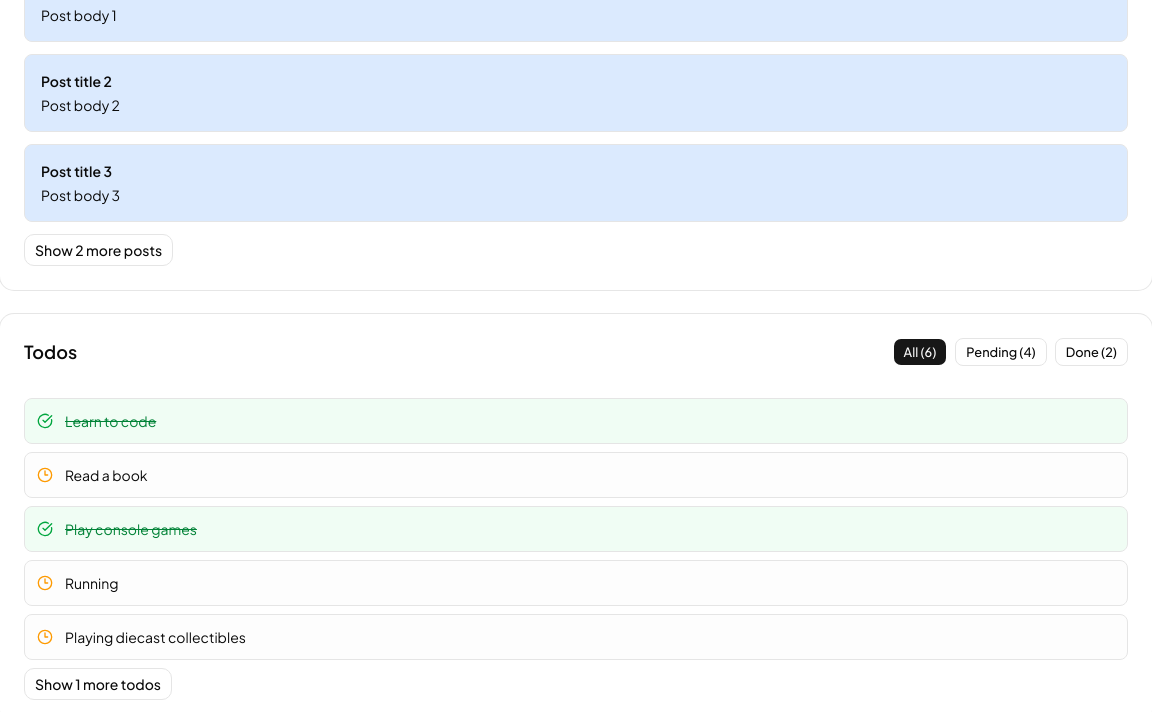
User Detail › todos section › filters todos by done
This screenshot has width=1152, height=712.
(page scrolled)
Click the button "Done (2)" at (1091, 352), box [1055, 338, 1128, 366]
(page scrolled)
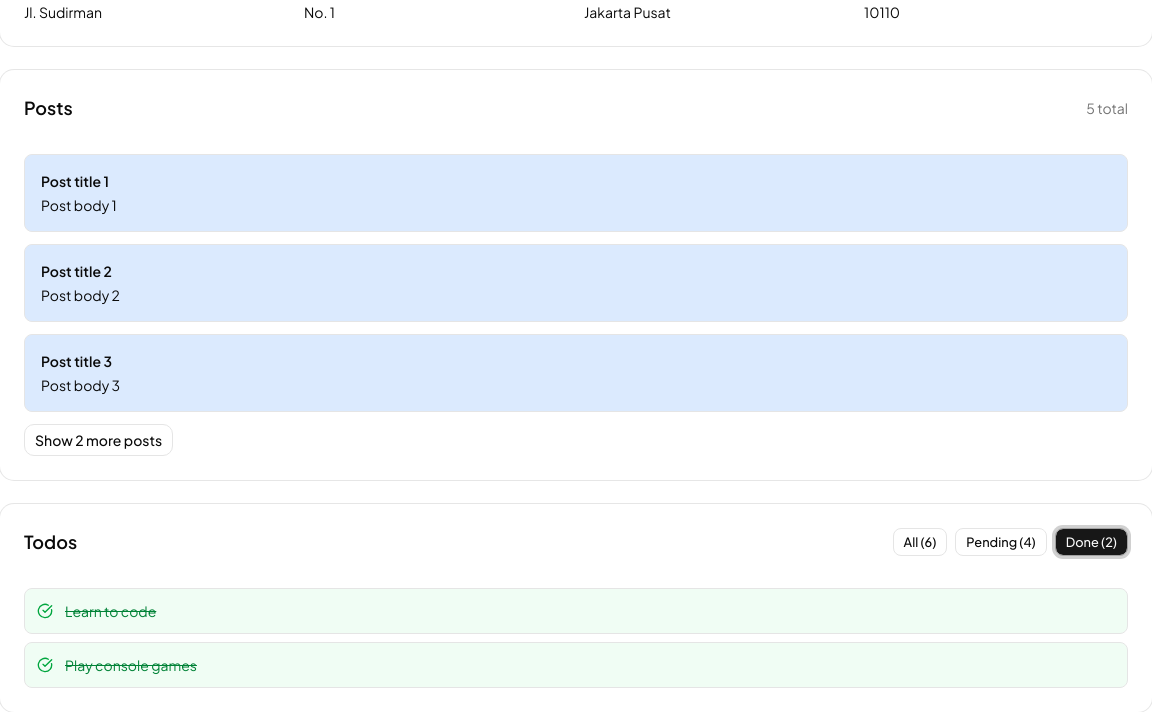
Expected: the text "Learn to code" is shown, [65, 601, 156, 621]
Expected: the text "Read a book" is gone
